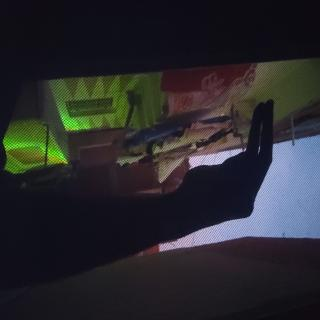ZAY: (70, 55, 186, 210)
